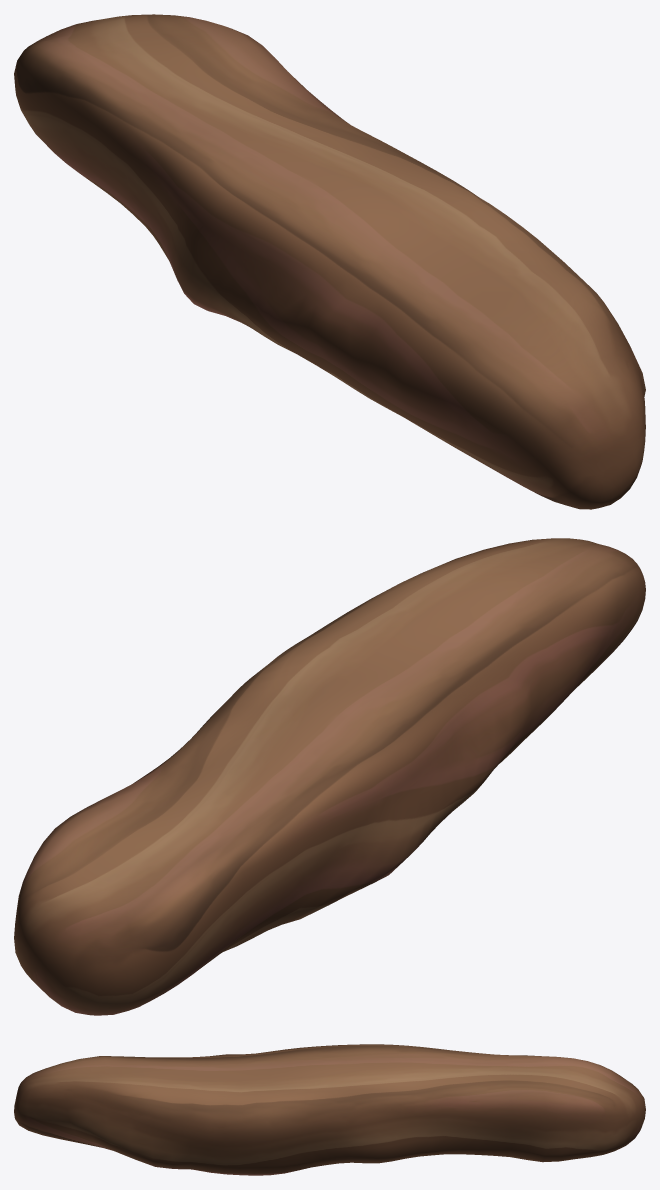
File: AngelStraightRoad.fbx
3 views of the same model, one above another, from view 1: azimuth 30°, elevation 25°; view 2: azimuth 150°, elevation 25°; view 3: azimuth 270°, elevation 25° (orthographic). The views are drawn at different scales.
Visible parts, largest first — view 1: AngelStraightRoad; view 2: AngelStraightRoad; view 3: AngelStraightRoad.
Part boxes in pixels (<box>): AngelStraightRoad: <box>14,14,645,509</box>; AngelStraightRoad: <box>14,538,645,1015</box>; AngelStraightRoad: <box>14,1044,645,1175</box>.
Bounding box in the file's own units: 129 × 77.54 × 512.
1 material, 1 textured.
